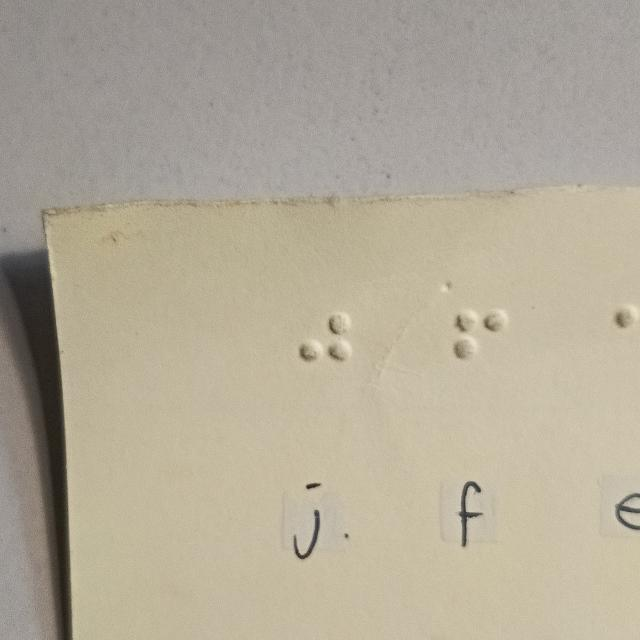letter_f: (455, 306, 505, 388)
letter_j: (300, 314, 350, 395)
